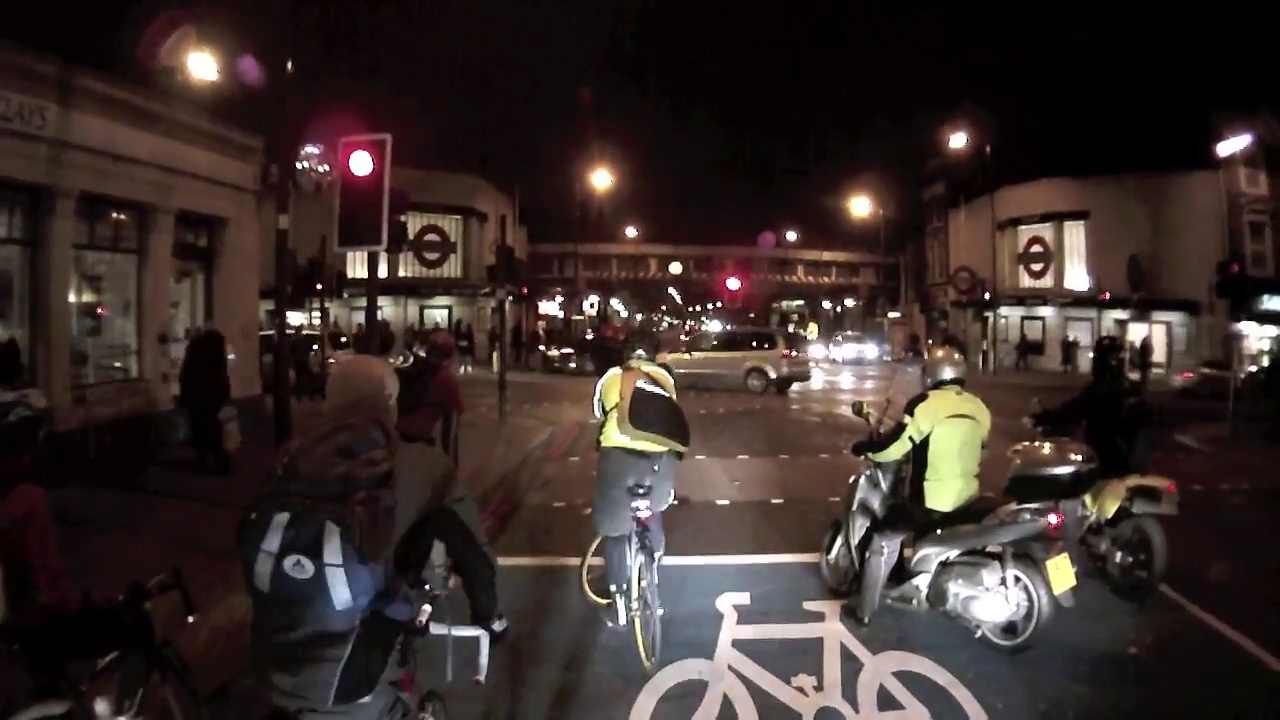cyclist_back: (576, 325, 693, 666)
cyclist_side: (819, 341, 1070, 647)
